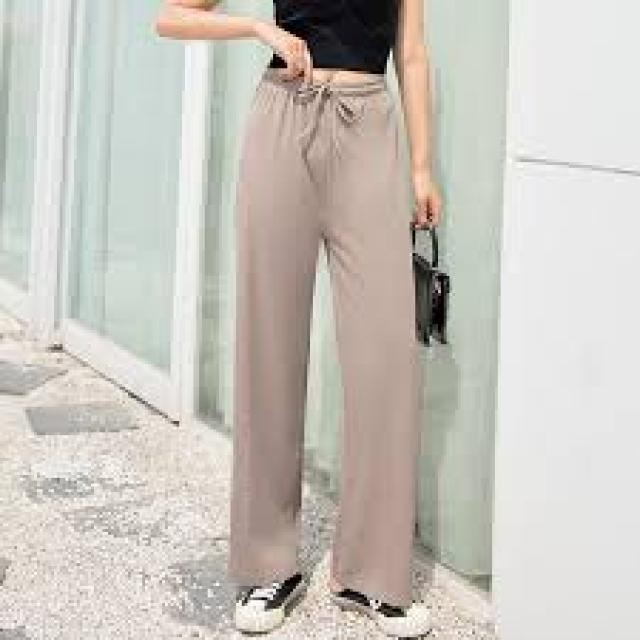long-pants: (231, 68, 417, 610)
